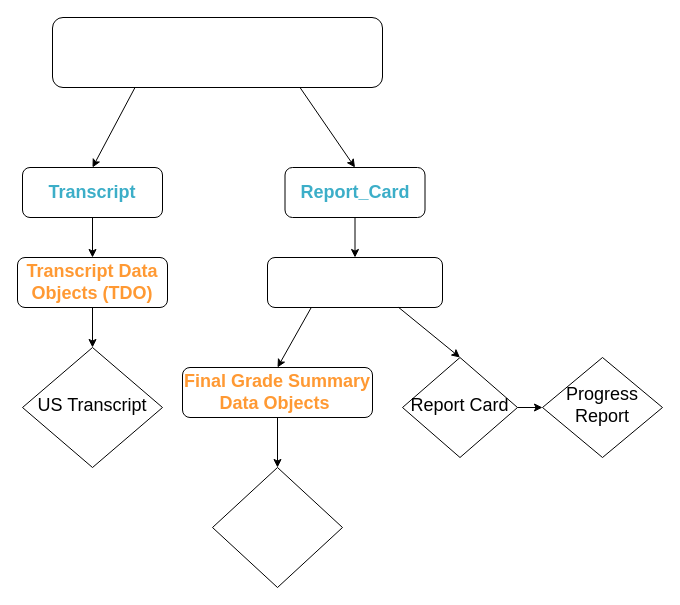
Some shapes in this 680 by 605 pixel diagram are drawn without their labels. Each missing label, with the box of its shape:
Final Grade Summary: (212, 466, 342, 588)
Report Card Data Objects (RCDO): (266, 256, 442, 308)
zs_Document: (52, 16, 382, 88)
